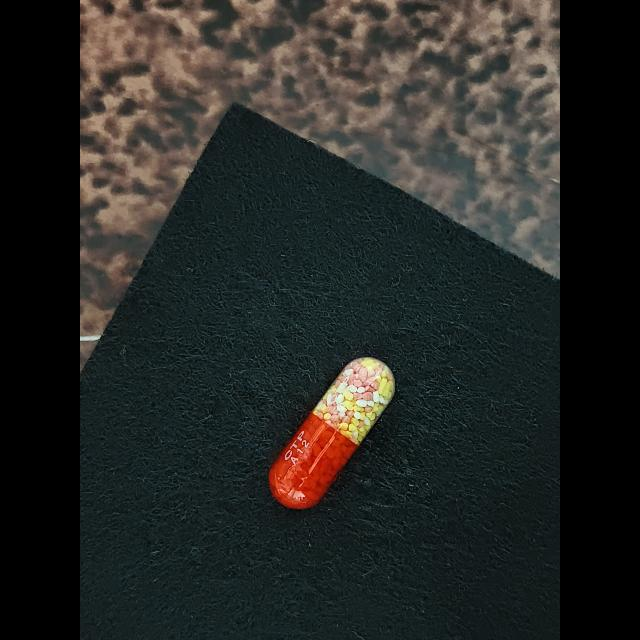Intact Capsule: (268, 357, 395, 509)
